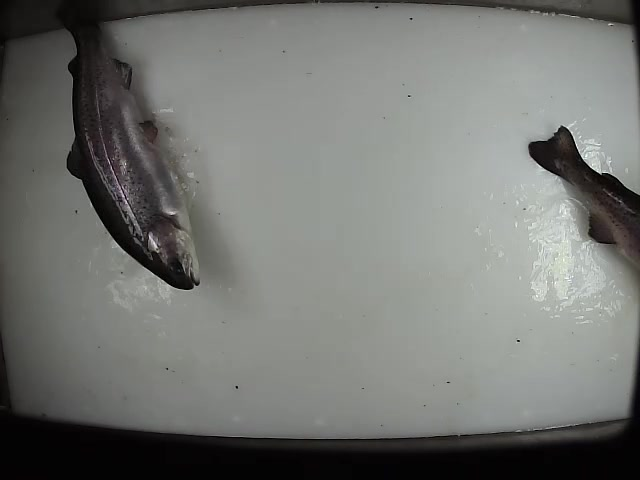fish: (52, 1, 202, 292), (527, 124, 640, 278)
